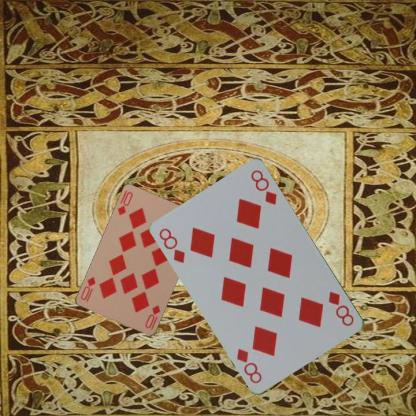10d: (142, 302, 161, 332), (115, 188, 134, 216)
8d: (326, 288, 356, 328), (156, 225, 186, 265)
